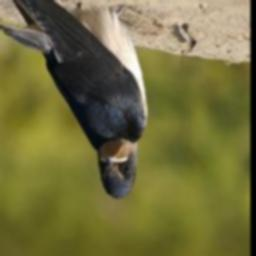Swallow: (0, 0, 148, 201)
